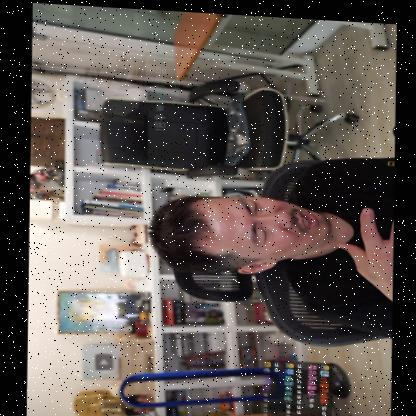donation: (45, 45, 182, 129)
streamer: (149, 141, 396, 333)
